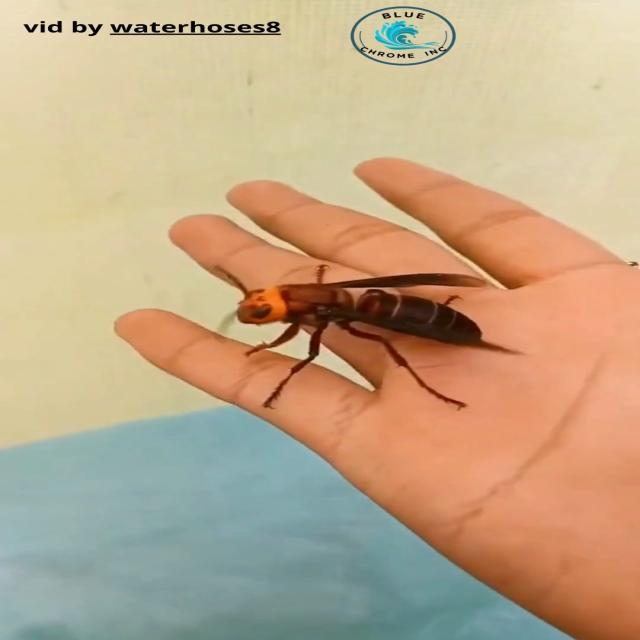Hornets: (202, 258, 524, 412)
